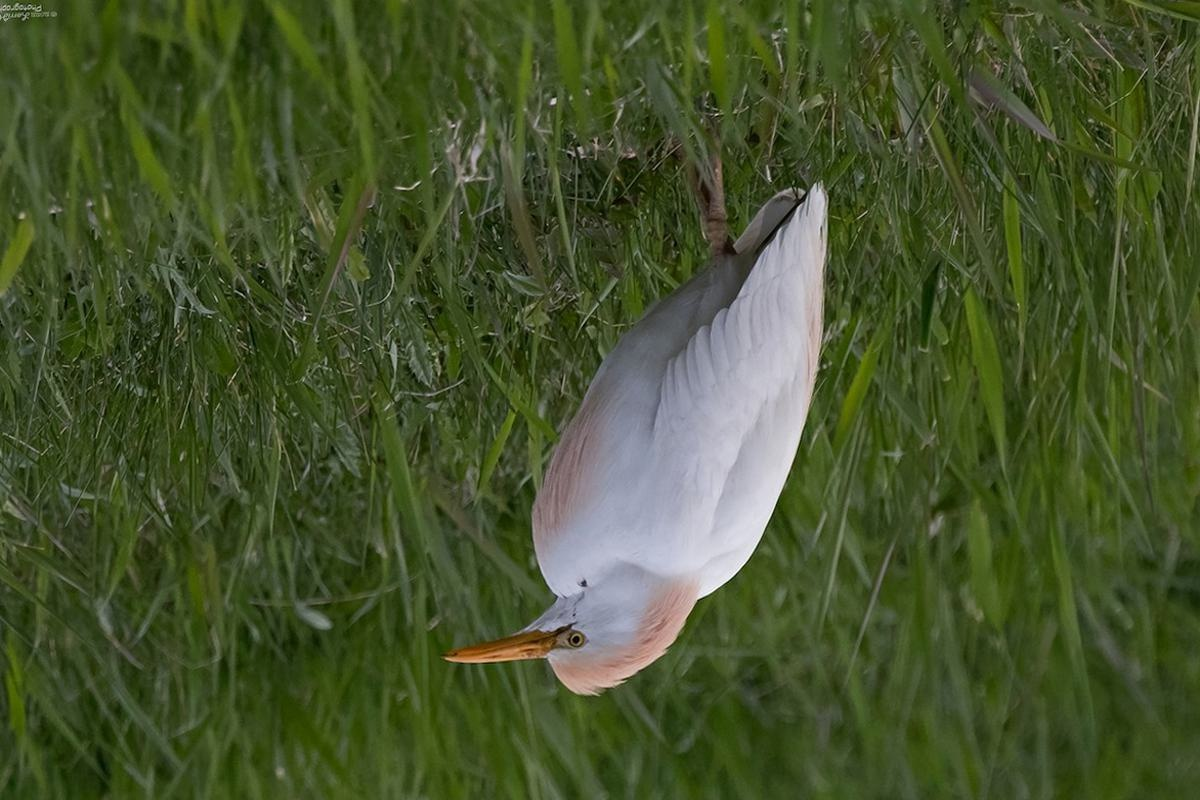egret: (429, 103, 824, 700)
